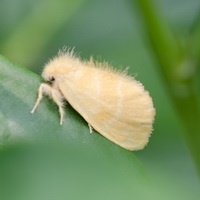insect: (42, 47, 154, 150)
